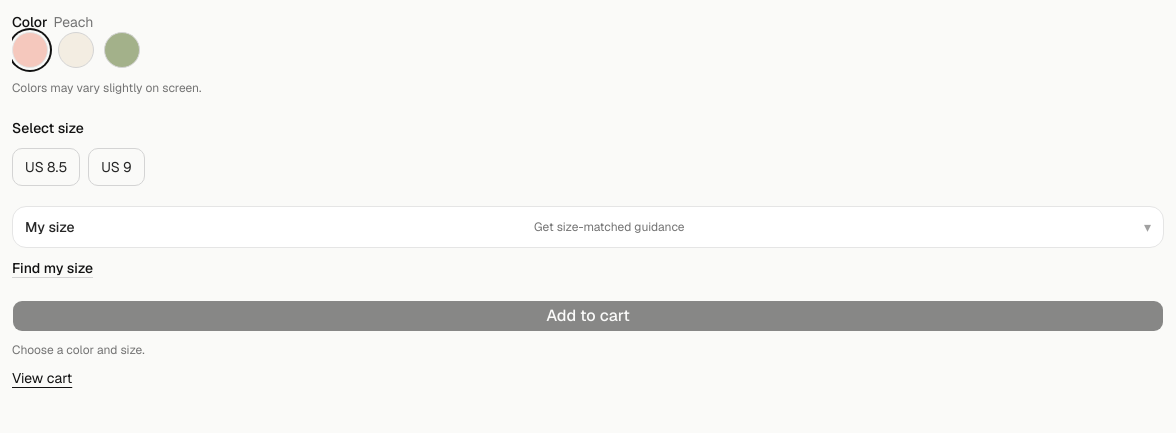
ProductActions 由 Python 变体驱动选择 › 按所选变体展示 Python 价格库存并且只 POST 真实 ID 和数量
The image size is (1176, 433).
expect the radio button named "Peach" is shown: met, box [12,32,48,68]
Click the 4th radio button labelled "US 9" at (116, 167), box [88,148,144,186]
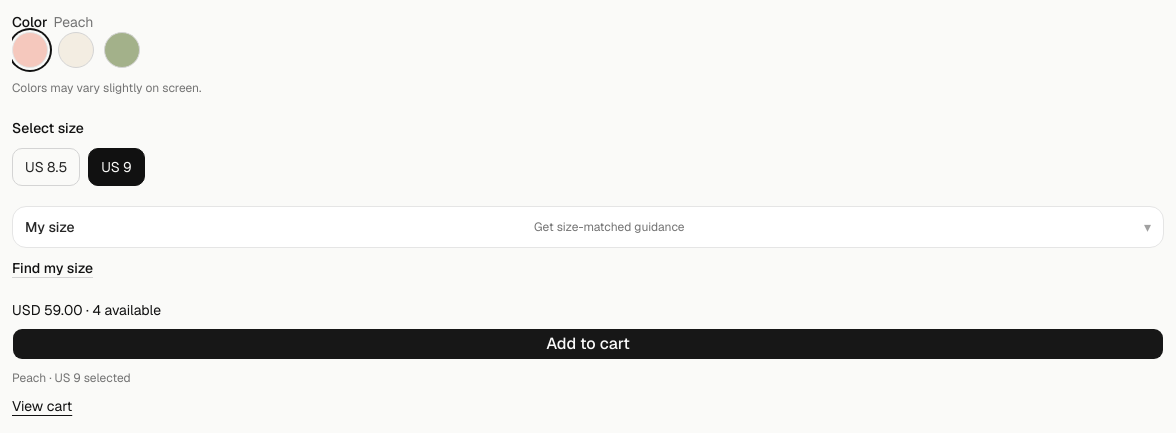
expect the text "USD 59.00 · 4 available" is shown: met, box [12,301,161,319]
Click the 4th radio button labelled "US 8.5" at (46, 167), box [12,148,80,186]
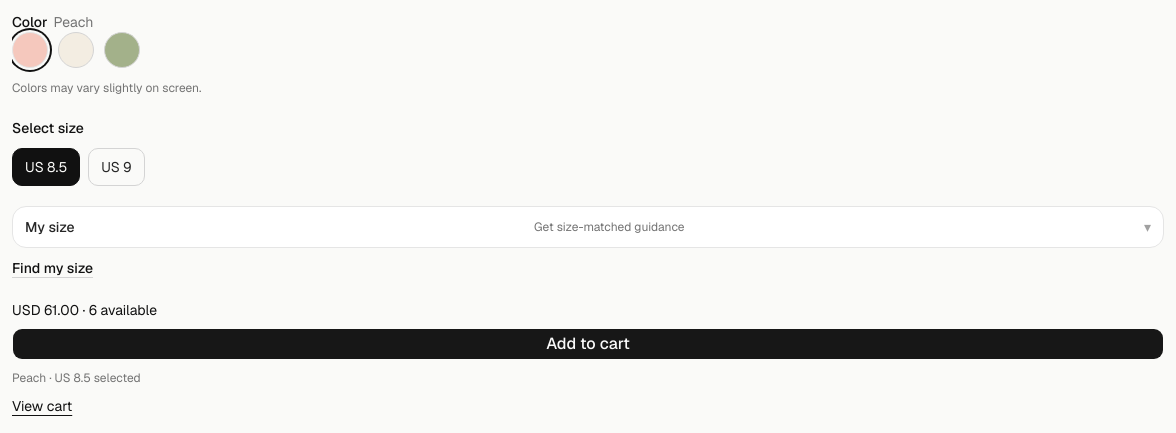
expect the text "USD 61.00 · 6 available" is shown: met, box [12,301,157,319]
expect the text "USD 59.00" is gone: met
Click the radio button named "Ivory" at (76, 50), box [58,32,94,68]
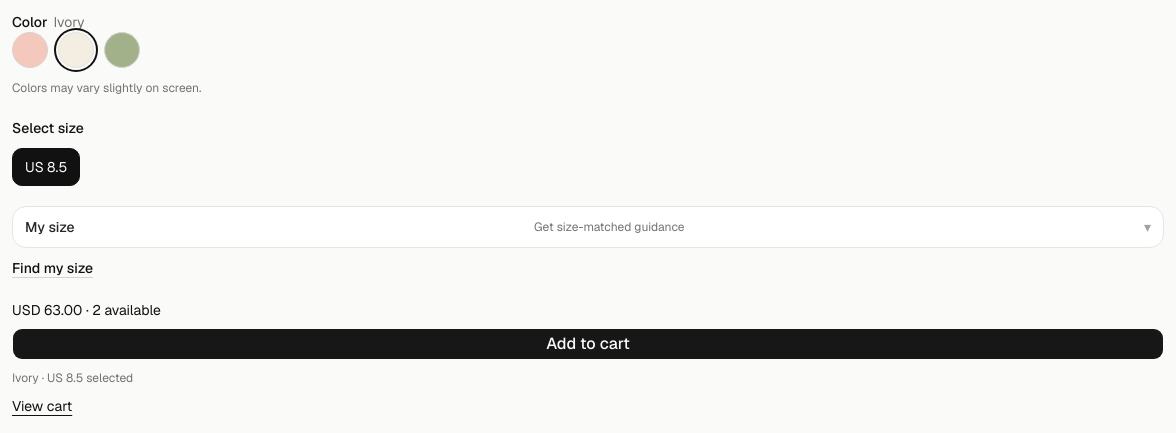
expect the 4th radio button labelled "US 8.5" is checked: met, box [12,148,80,186]
expect the text "USD 63.00 · 2 available" is shown: met, box [12,301,161,319]
expect the text "US 9" is gone: met
Click the button "Add to cart" at (588, 344), box [12,328,1164,360]
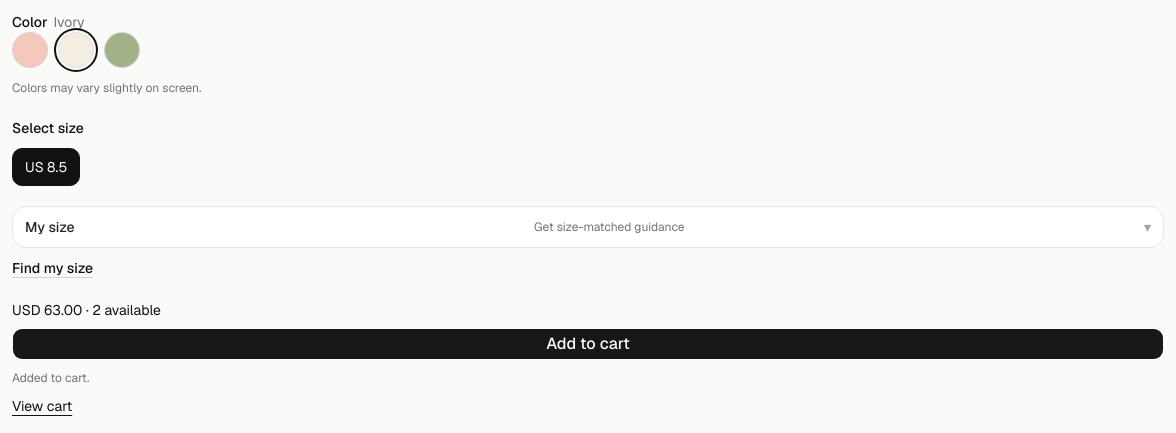
expect the text "Added to cart." is shown: met, box [12,370,90,386]
